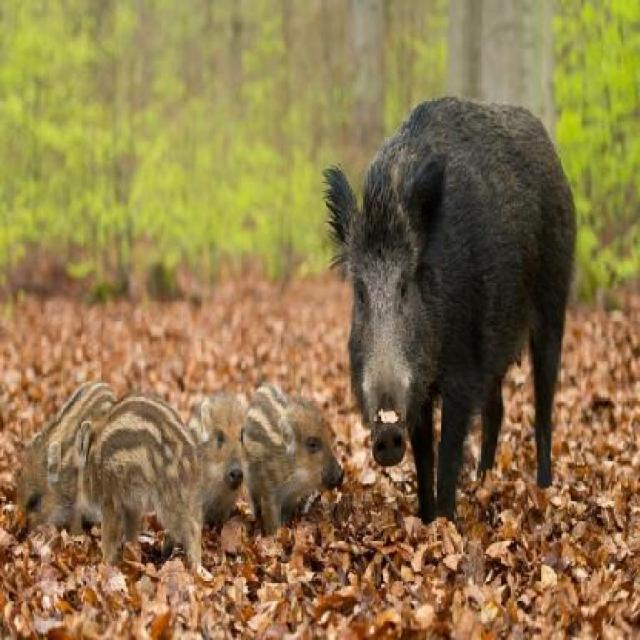Wild Boar: (322, 94, 581, 534), (76, 385, 209, 580), (12, 378, 131, 545), (239, 381, 344, 537), (182, 383, 252, 535)
